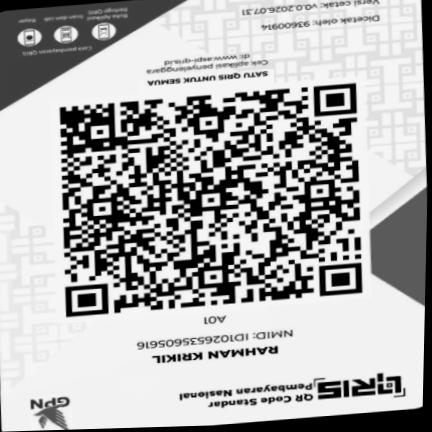Cara Pakai QRIS: (7, 4, 133, 60)
Cek Aplikasi Penyelenggara: (138, 50, 276, 76)
Dicetak Oleh: (258, 12, 389, 33)
Logo GPN: (24, 392, 79, 431)
Logo dan deskripsi QRIS: (168, 367, 412, 418)
Nama Merchant: (147, 343, 284, 367)
National Merchant ID: (125, 327, 301, 353)
QR Code: (53, 80, 369, 320)
Slogan: (139, 67, 277, 89)
Terminal ID: (199, 314, 230, 326)
Versi Cetak: (236, 0, 389, 20)
